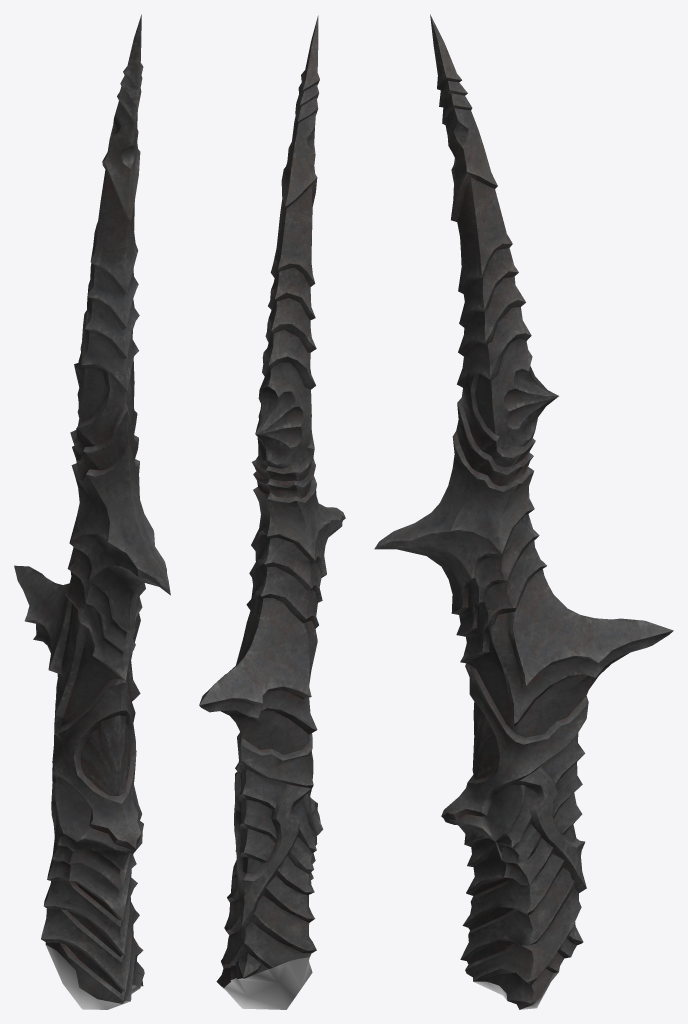
Rendered from bg_rad_kamen_pillar02a_sm_cjy.obj.
3 views of the same model, side by side, from view 1: azimuth 30°, elevation 25°; view 2: azimuth 150°, elevation 25°; view 3: azimuth 270°, elevation 25° (orthographic). The views are drawn at different scales.
Visible parts, largest first — view 1: bg_rad_kamen_pillar02a_sm_cjy_0, bg_rad_kamen_pillar02a_sm_cjy_1; view 2: bg_rad_kamen_pillar02a_sm_cjy_0, bg_rad_kamen_pillar02a_sm_cjy_1; view 3: bg_rad_kamen_pillar02a_sm_cjy_0.
Part boxes in pixels (box(x1,y1,x2,y2)): bg_rad_kamen_pillar02a_sm_cjy_0: box(14, 14, 170, 1003); bg_rad_kamen_pillar02a_sm_cjy_1: box(46, 945, 142, 1009); bg_rad_kamen_pillar02a_sm_cjy_0: box(199, 15, 345, 988); bg_rad_kamen_pillar02a_sm_cjy_1: box(224, 957, 312, 1009); bg_rad_kamen_pillar02a_sm_cjy_0: box(374, 14, 673, 1009).
Size of the model in its own units: 0.1426 by 1.33 by 0.3683.
Materials: 2 (1 with a texture image).
